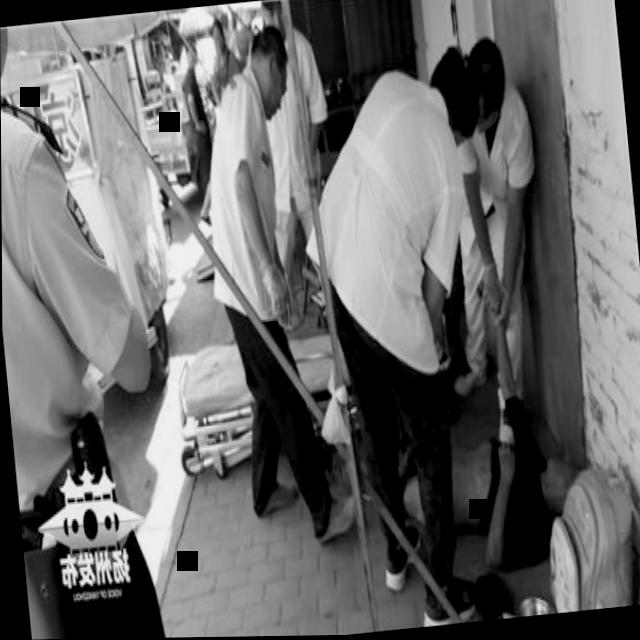Fall-Detected: (355, 257, 595, 604)
